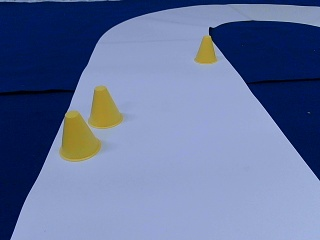cone: (60, 112, 101, 160), (88, 87, 123, 127), (194, 36, 216, 63)
